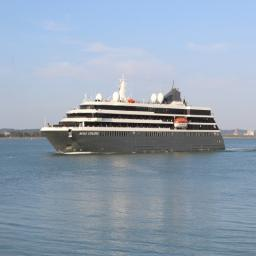cruises: (39, 74, 227, 158)
